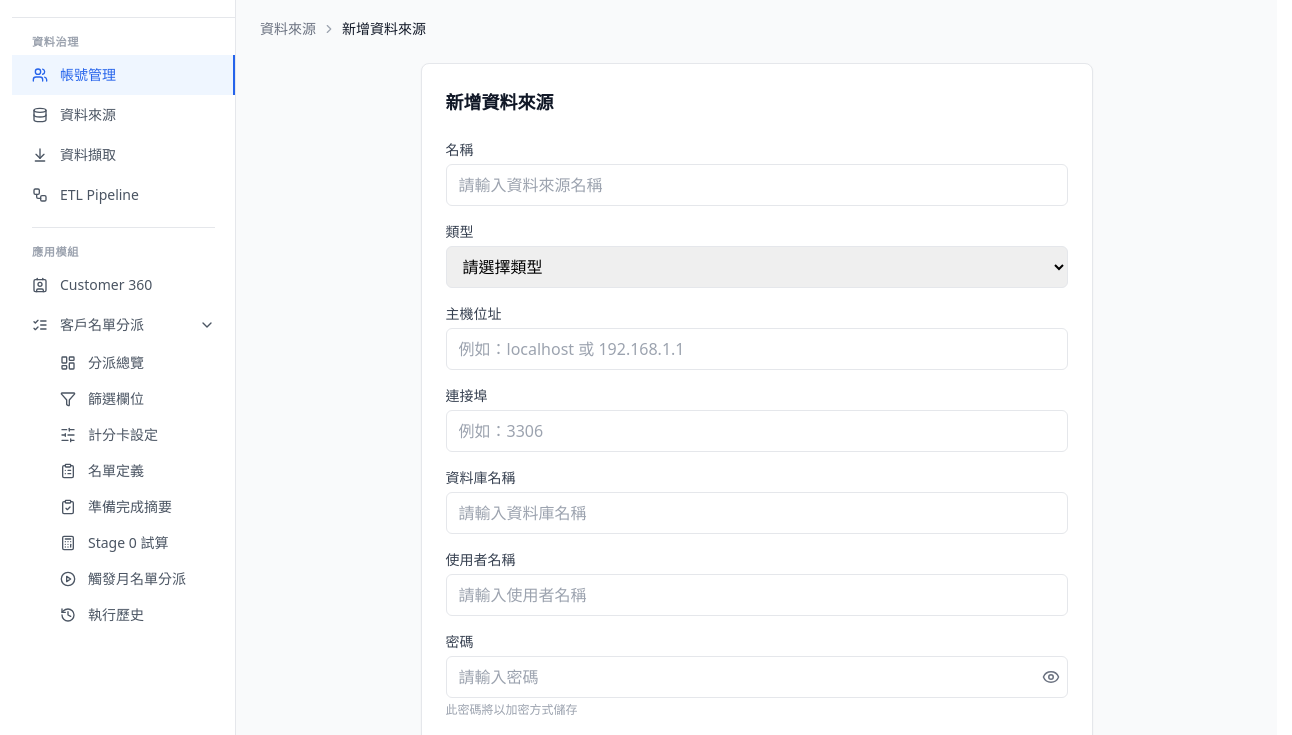
Test: AddDatasourcePage › 成功提交 › 提交時按鈕顯示 loading 狀態
Type "Test DB" into the field labelled "名稱". click: (756, 185)
box: [446,164,1068,206]
Select "MySQL" in the dropdown labelled "類型". click: (756, 267)
box: [446,246,1068,288]
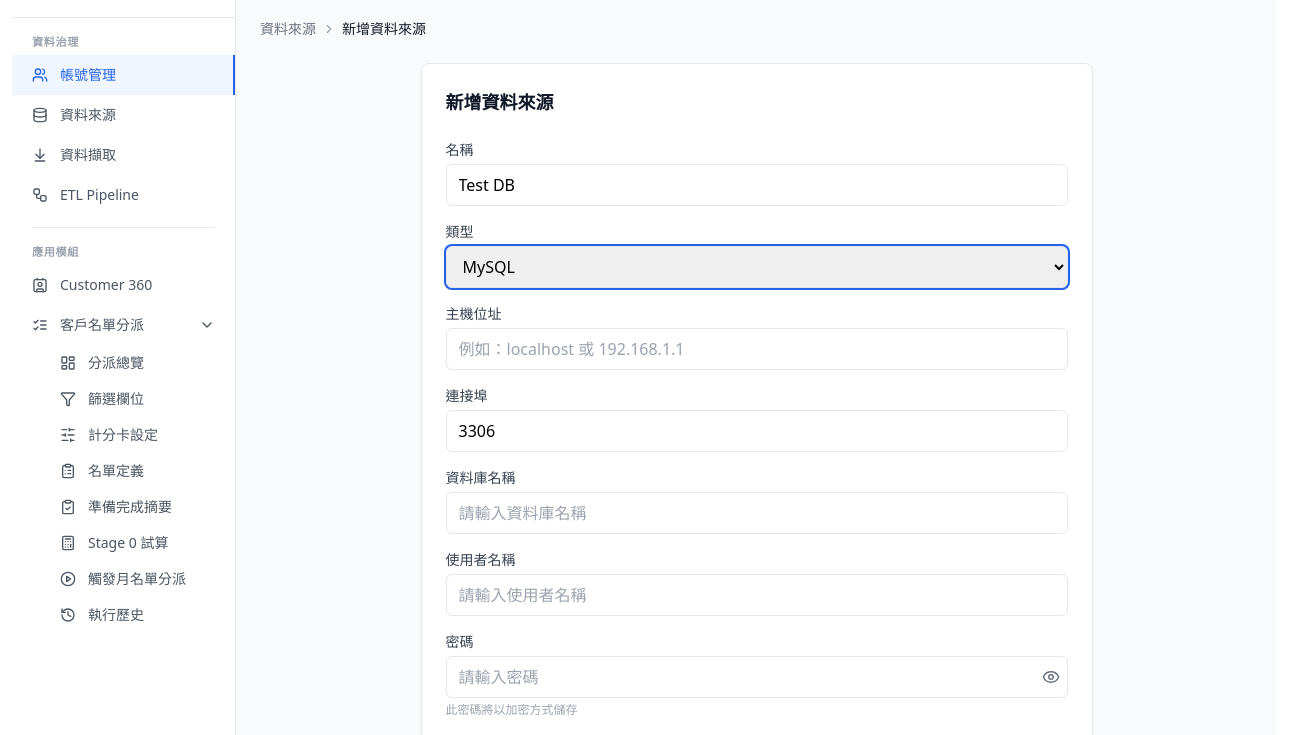
Type "localhost" into the field labelled "主機位址". click: (756, 349)
box: [446,328,1068,370]
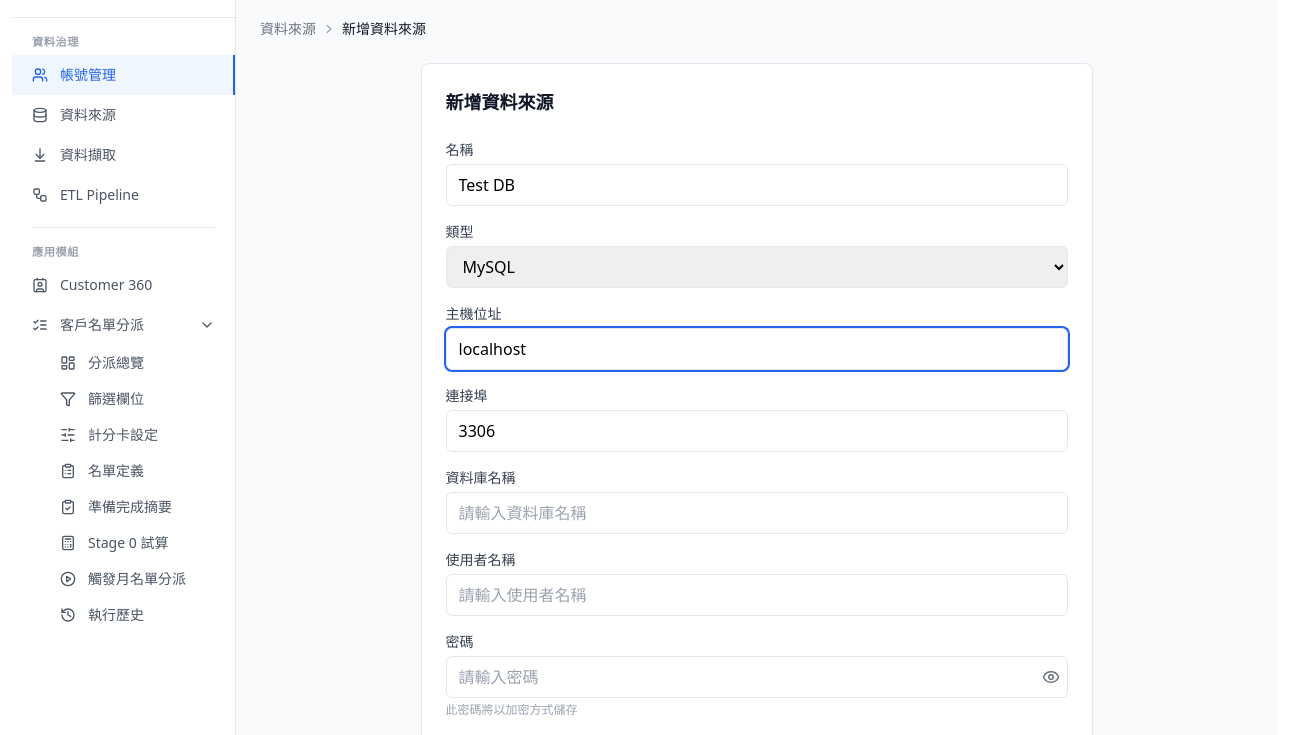
Type "testdb" into the field labelled "資料庫名稱". click: (756, 513)
box: [446,492,1068,534]
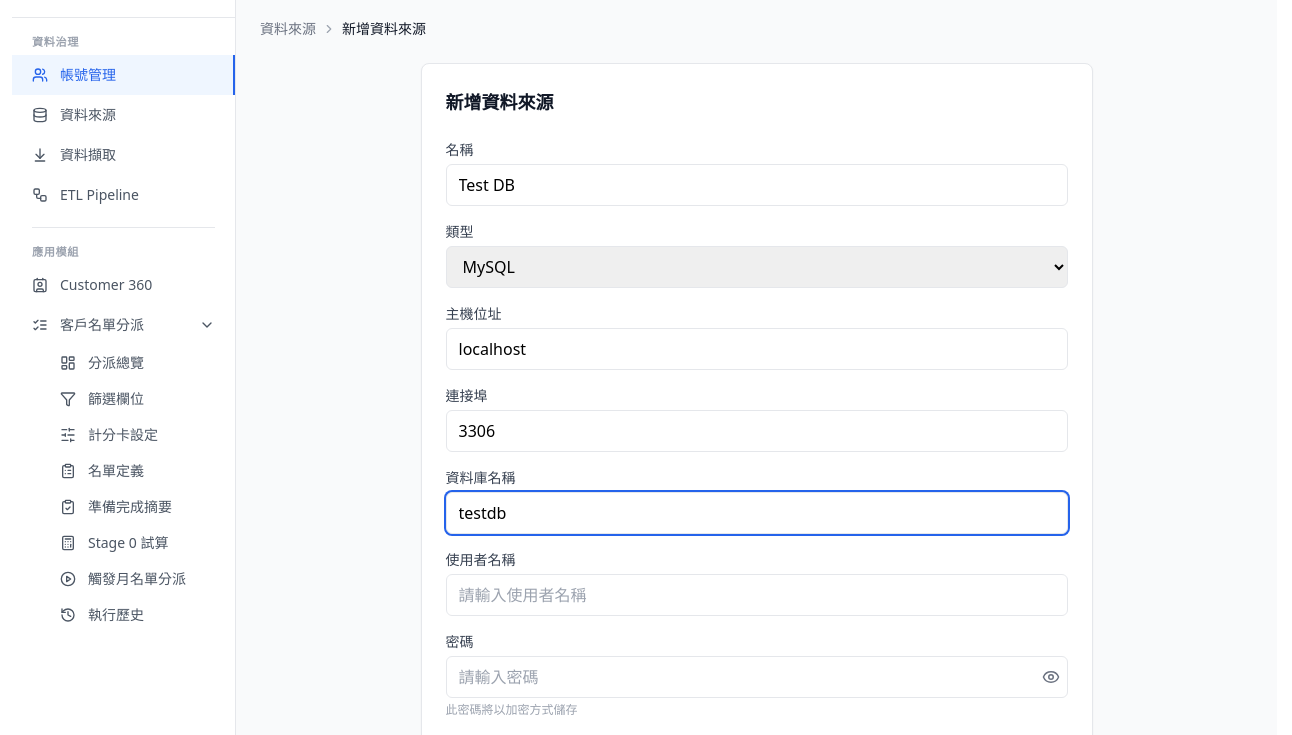
Type "root" into the field labelled "使用者名稱". click: (756, 595)
box: [446,574,1068,616]
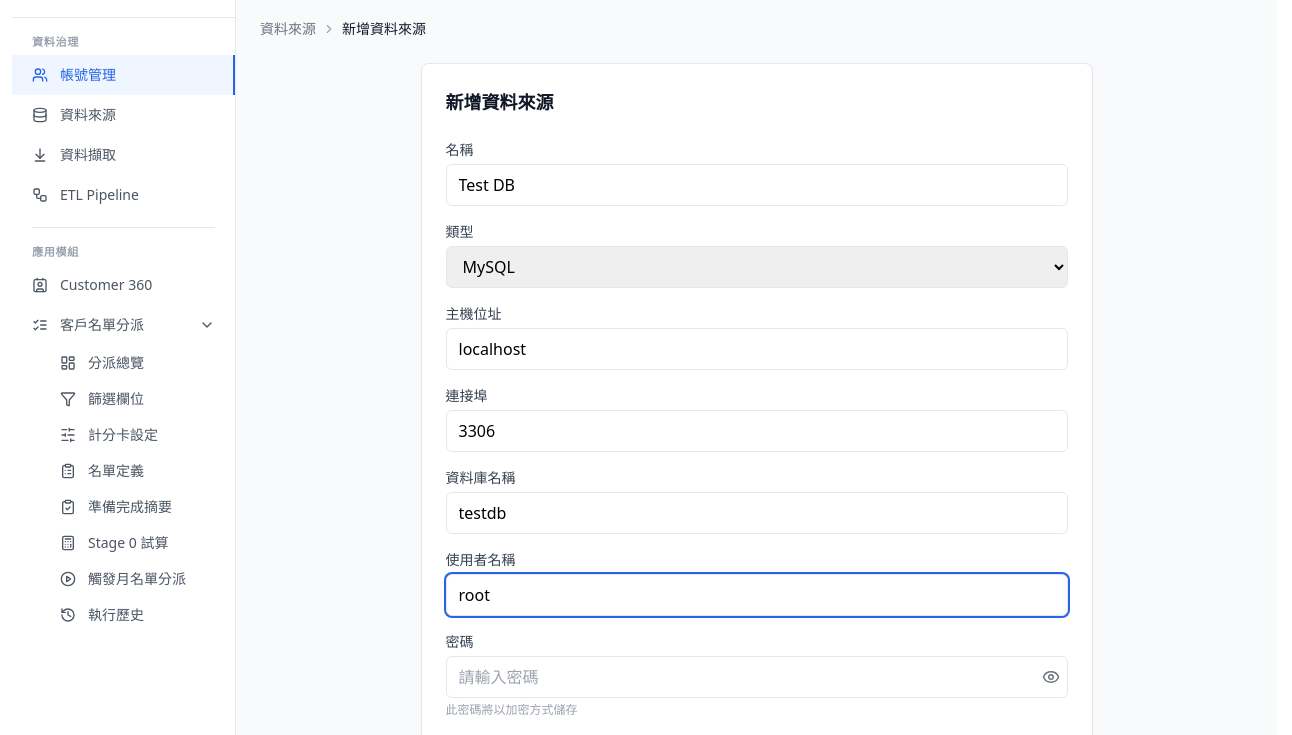
Type "secret123" into the password field labelled "密碼". click: (756, 677)
box: [446,656,1068,698]
(page scrolled)
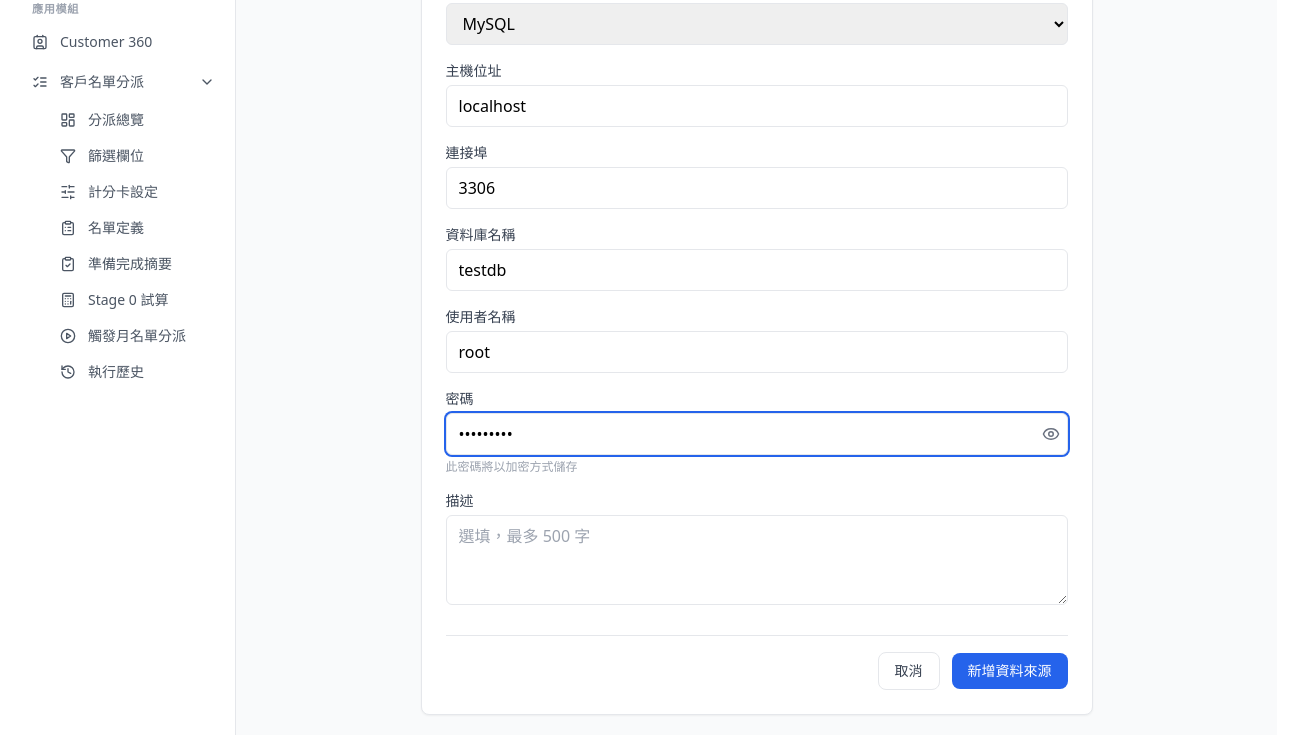
Click the button "新增資料來源". click: click(1010, 671)
box: [952,653,1068,689]
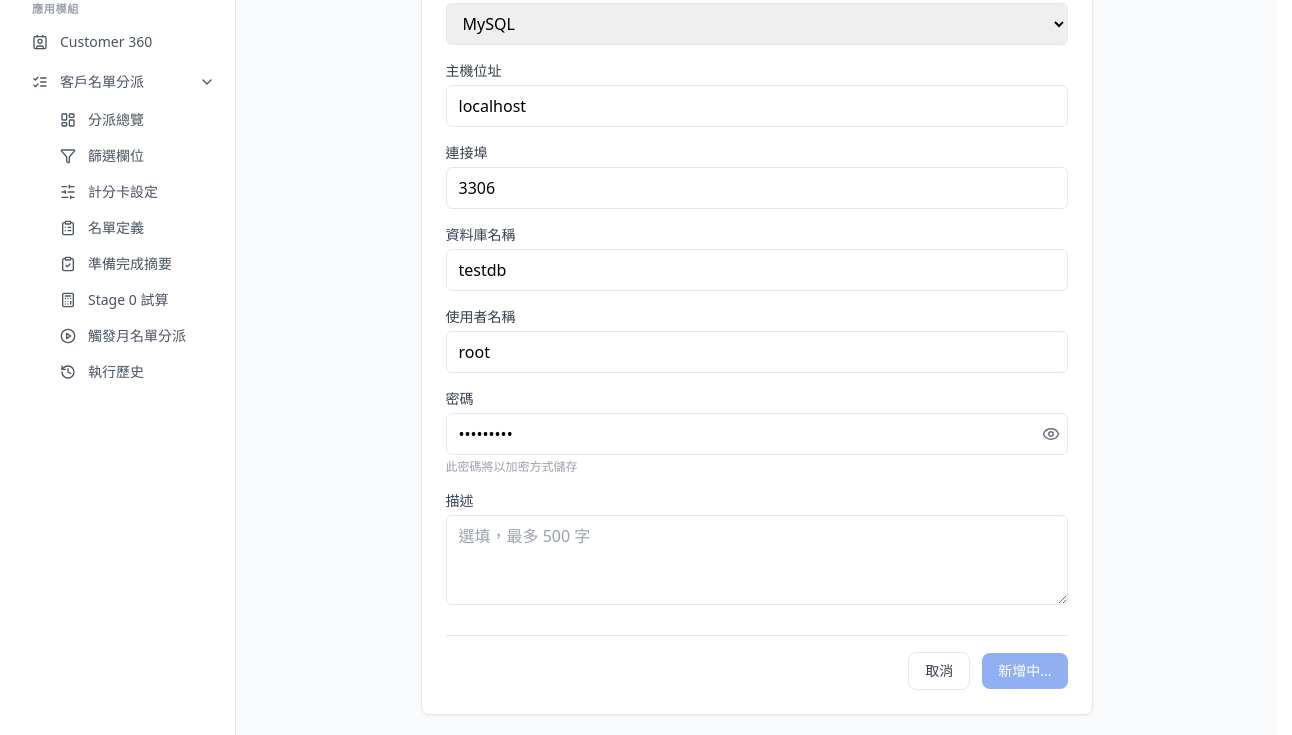
Expected: the button "新增中..." is disabled, [982,653,1068,689]
